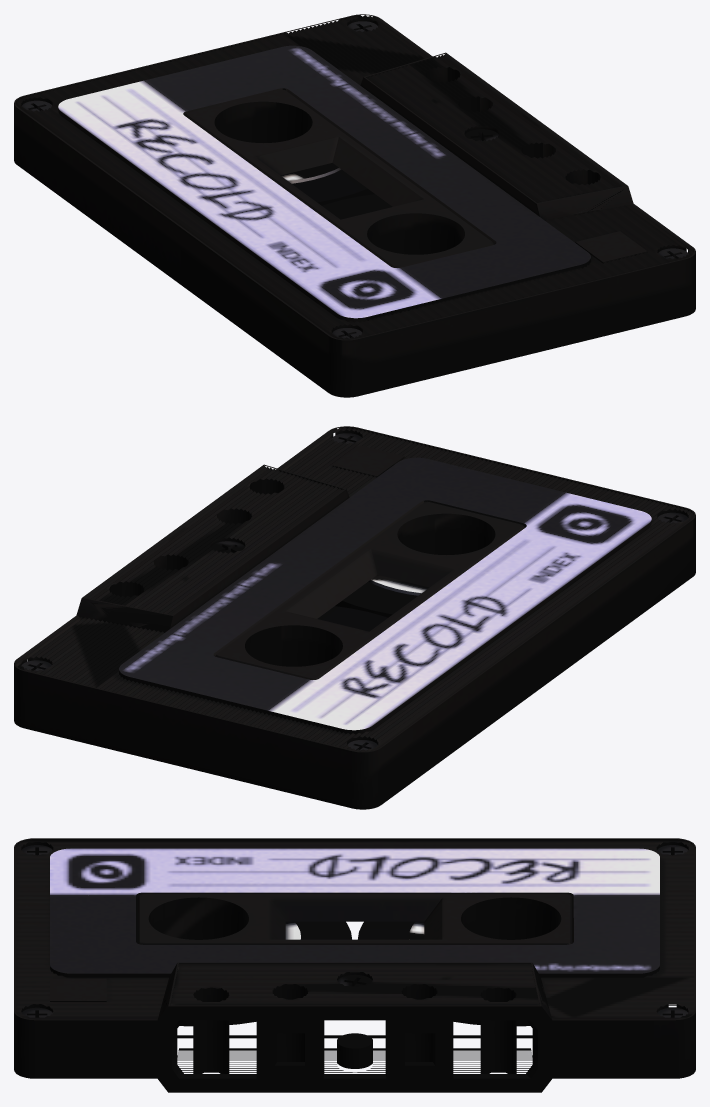
Rendered from CASSETTE_B_.glb.
3 views of the same model, one above another, from view 1: azimuth 30°, elevation 25°; view 2: azimuth 150°, elevation 25°; view 3: azimuth 270°, elevation 25° (orthographic). The views are drawn at different scales.
Visible parts, largest first — view 1: tape; view 2: tape; view 3: tape.
Boxes of the visible parts, x1,y1,x2,y2 form: tape: (14, 14, 695, 397); tape: (14, 426, 695, 809); tape: (14, 838, 695, 1092).
Bounding box in the file's own units: 0.504 × 0.1117 × 0.798.
1 material, 1 textured.
